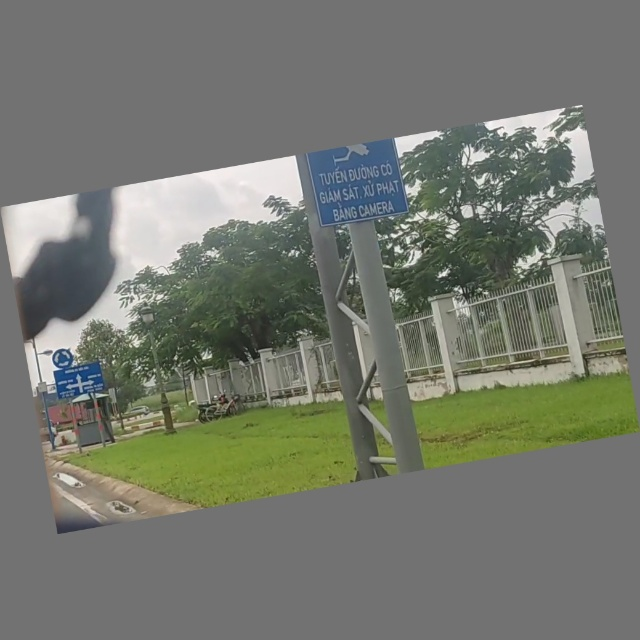R.303: (50, 345, 76, 371)
